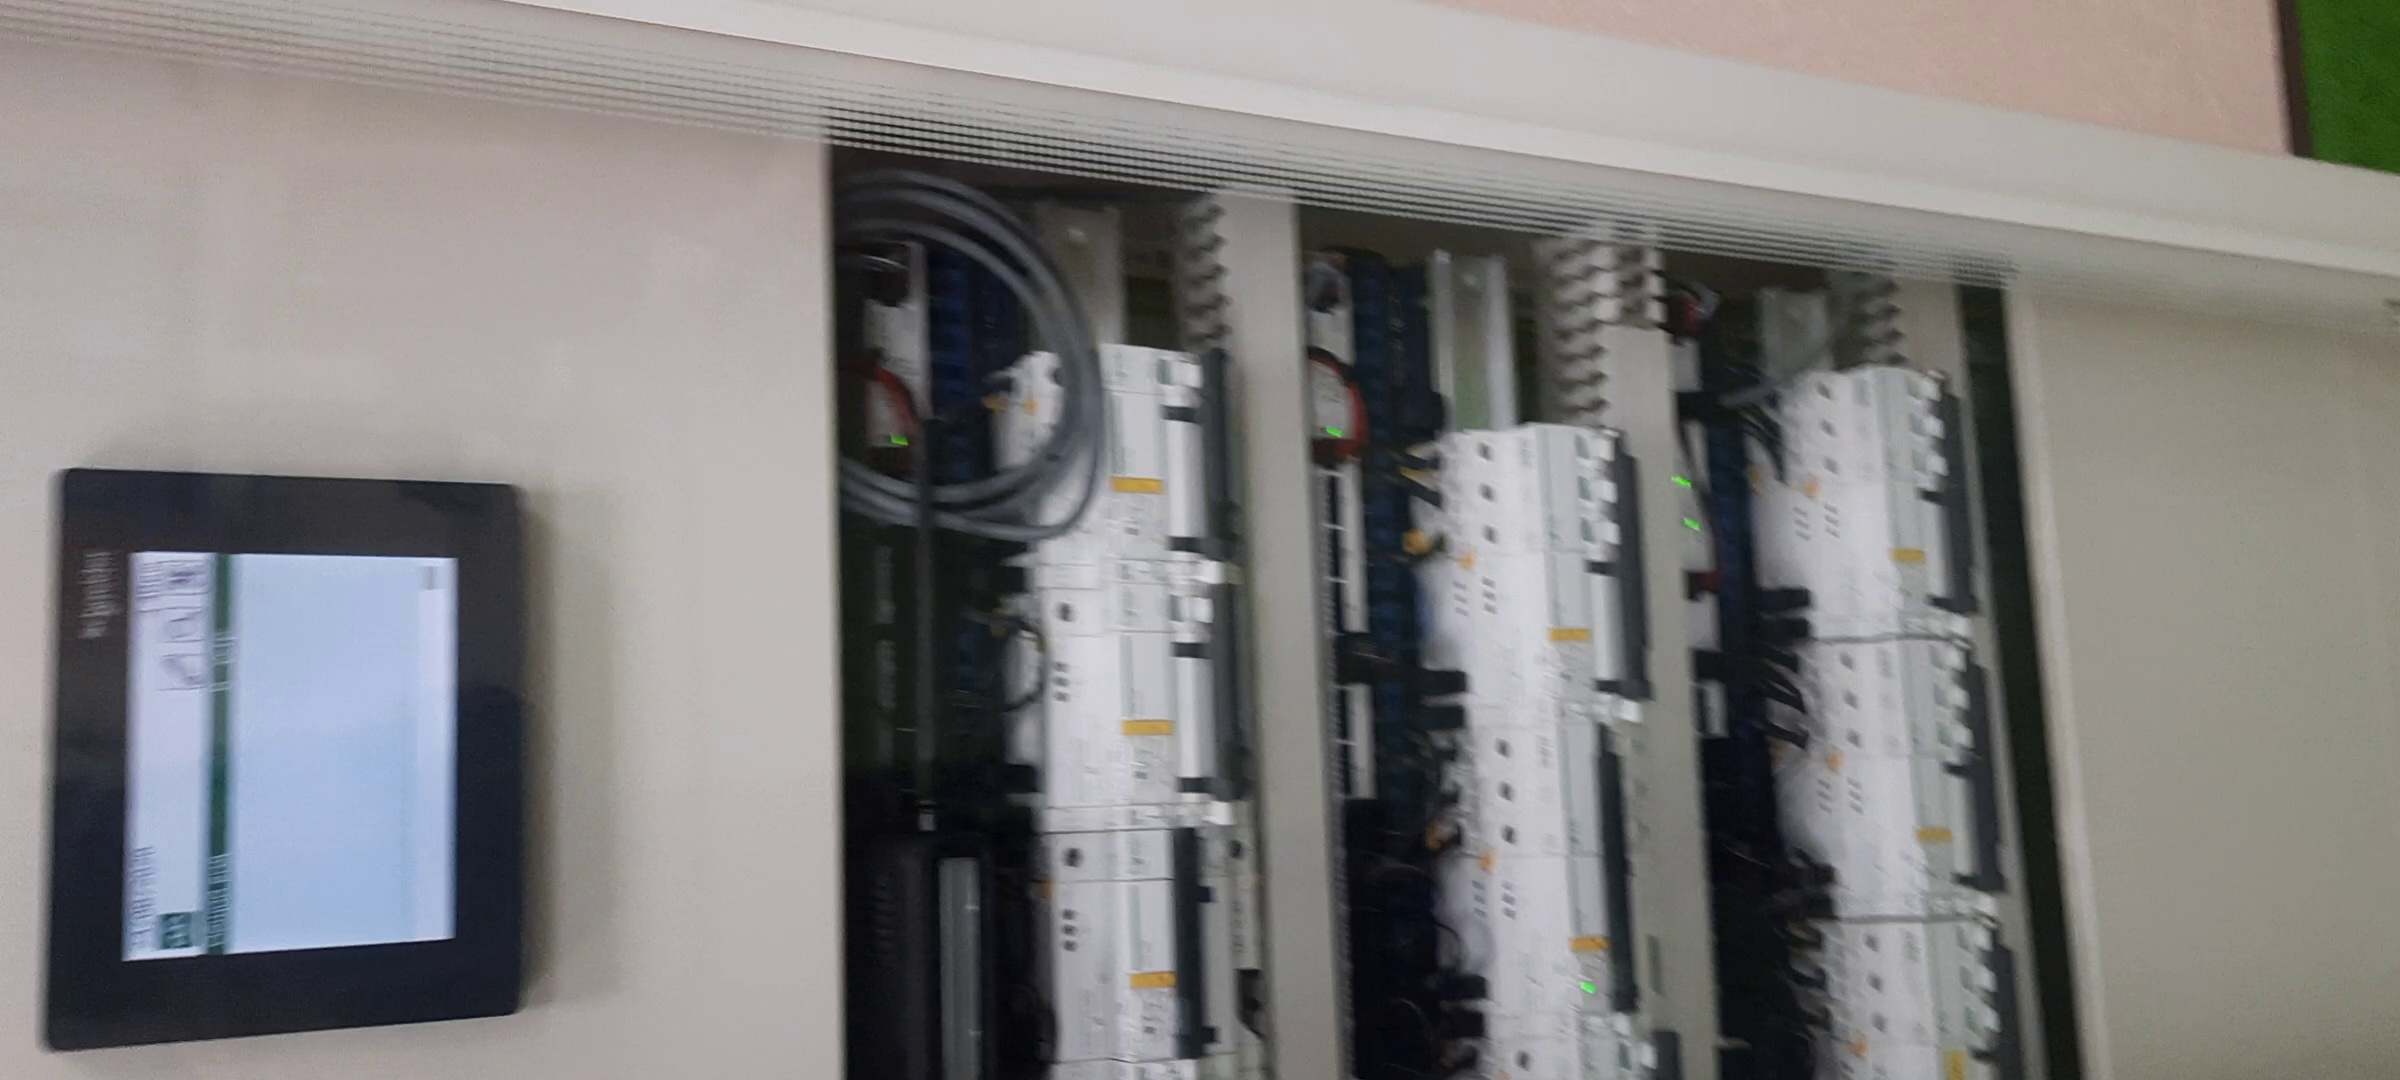smart_stand: (2, 109, 2400, 1075)
